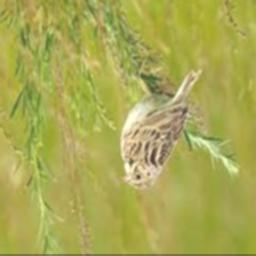Sparrow: (120, 67, 203, 190)
